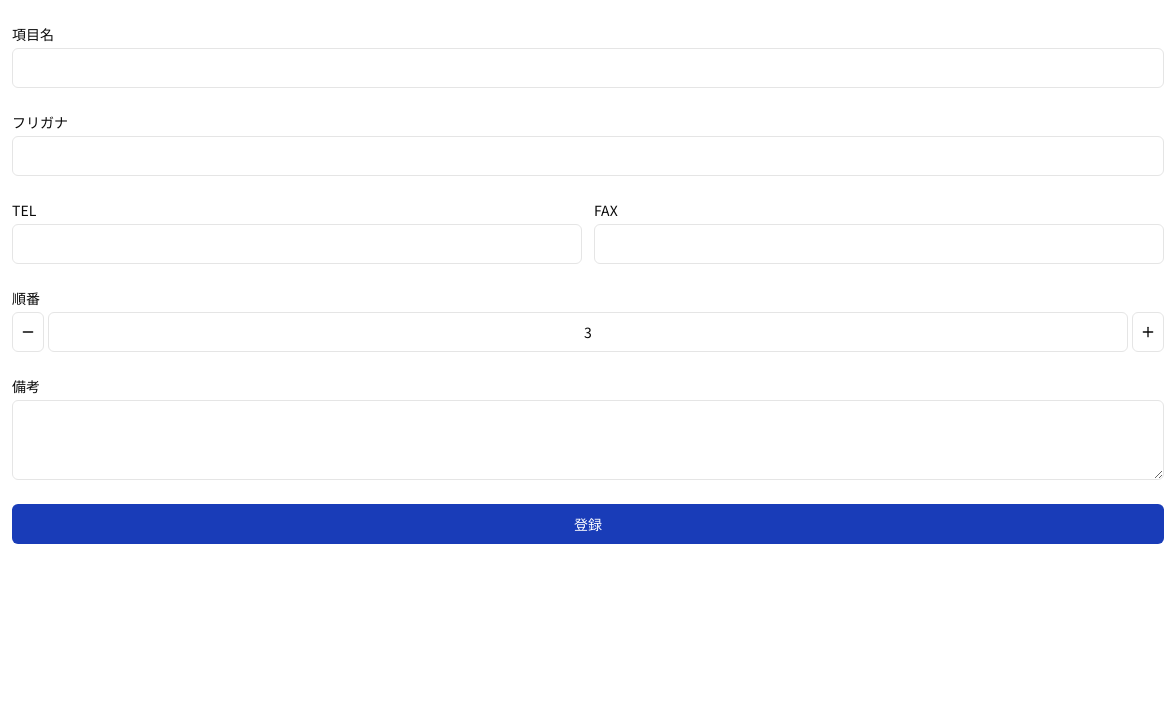
Test case: MasterInputArea の新規登録 › 名前が空のまま登録すると必須メッセージが出て Action は呼ばれない
What coordinates should you click on to do the following:
click the button "登録"
I would click on:
 (588, 524)
Its box is [12,504,1164,544].
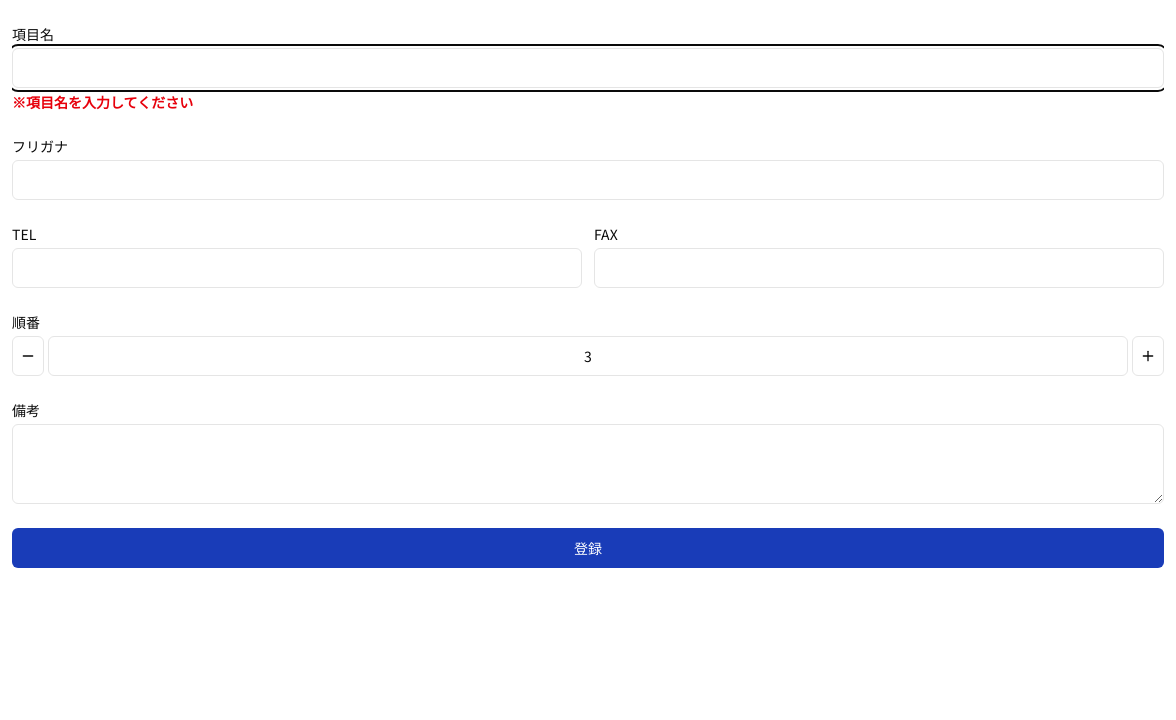
Check: the text "※項目名を入力してください" is shown, box [12,92,193,112]
